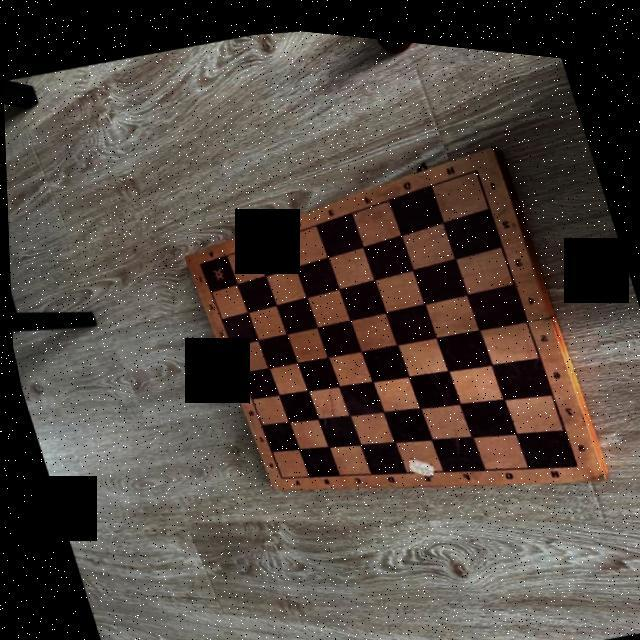chess-table-corners: (563, 443, 582, 461), (270, 461, 286, 478), (467, 152, 481, 166), (193, 255, 201, 262)
